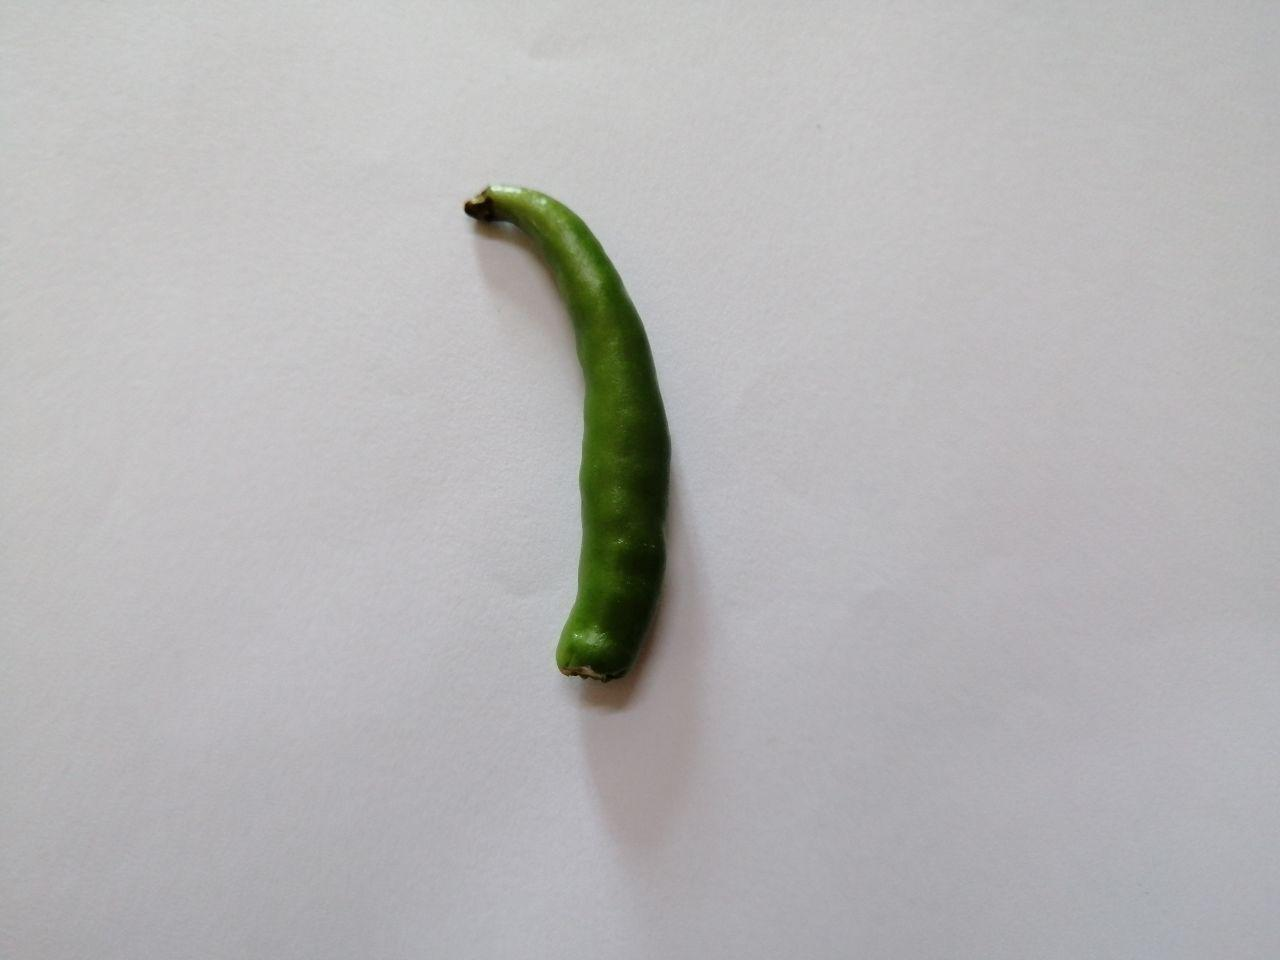lada hijau: (435, 167, 696, 722)
